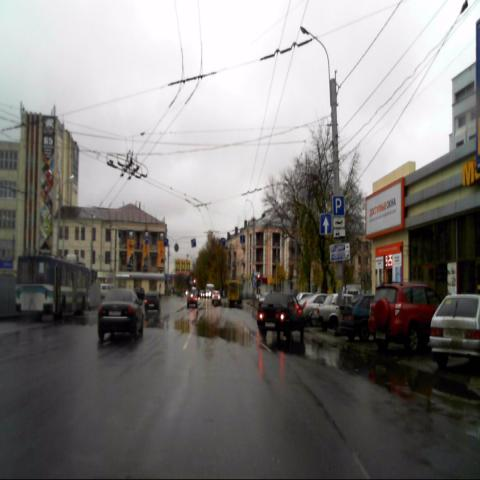5_5: (320, 214, 331, 235)
6_4: (333, 196, 344, 215)
